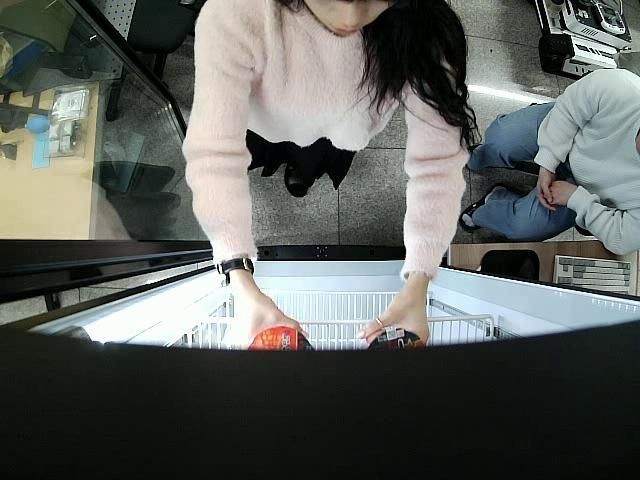02_shinRamen_S: (244, 324, 317, 351), (358, 322, 428, 348)
